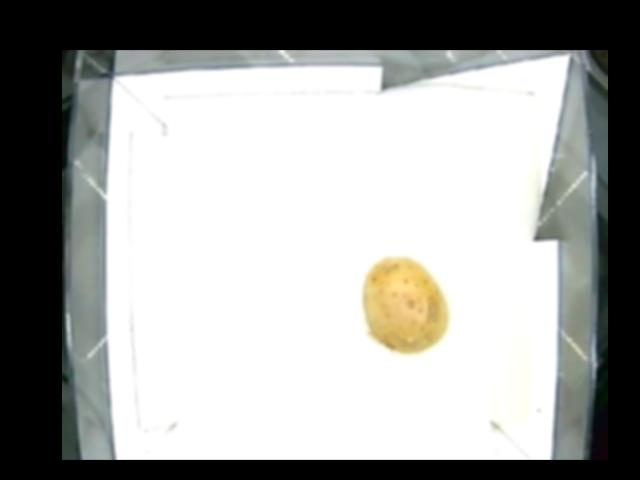Potato: (362, 254, 449, 354)
